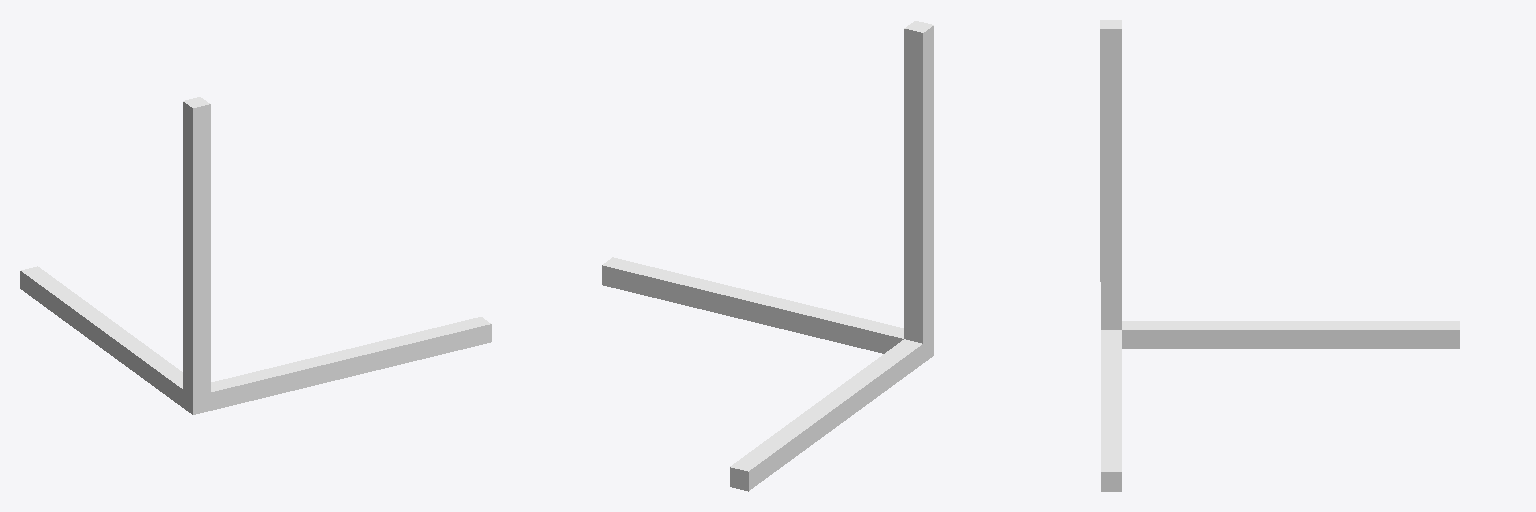
robot.urdf — frame:
<?xml version="1.0" ?>
<robot name="frame">
  <link name="baseLink">
    <contact>
      <lateral_friction value="0.0"/>
      <rolling_friction value="0.0"/>
      <contact_cfm value="0.0"/>
      <contact_erp value="0.0"/>
    </contact>
    <inertial>
      <origin rpy="0 0 0" xyz="0 0 0"/>
       <mass value="1.0"/>
       <inertia ixx="1" ixy="0" ixz="0" iyy="1" iyz="0" izz="1"/>
    </inertial>
    <visual>
      <origin rpy="1.5709 0 0" xyz="0 0 0"/>
      <geometry>
				<mesh filename="untitled.obj" scale="0.001 0.001 0.001"/>
      </geometry>
     <material name="white">
        <color rgba="1 1 1 1"/>
      </material>
    </visual>
  </link>
</robot>

--- Render facts (derived) ---
3 views of the same robot in one strip: view 1: azimuth 30°, elevation 25°; view 2: azimuth 150°, elevation 25°; view 3: azimuth 270°, elevation 25° (orthographic).
Robot: frame — 1 links, 0 joints (none); root link baseLink; default pose: every joint at zero.
Links seen in each view (by area): view 1: baseLink; view 2: baseLink; view 3: baseLink.
Boxes of the visible links, left/top/right/bottom form: baseLink: left=20, top=97, right=491, bottom=414; baseLink: left=602, top=21, right=933, bottom=491; baseLink: left=1100, top=20, right=1459, bottom=491.
Bounding box of the posed robot: 0.0032 × 0.0032 × 0.0031 m (x, y, z).
Meshes: 1 distinct files referenced, 1 mesh visuals loaded (1 OBJ).
